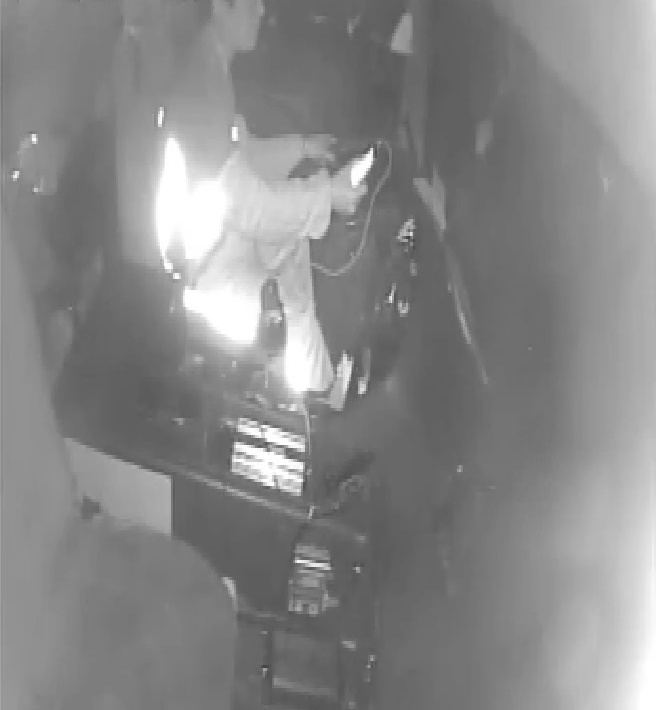cellphone: (342, 145, 377, 194)
